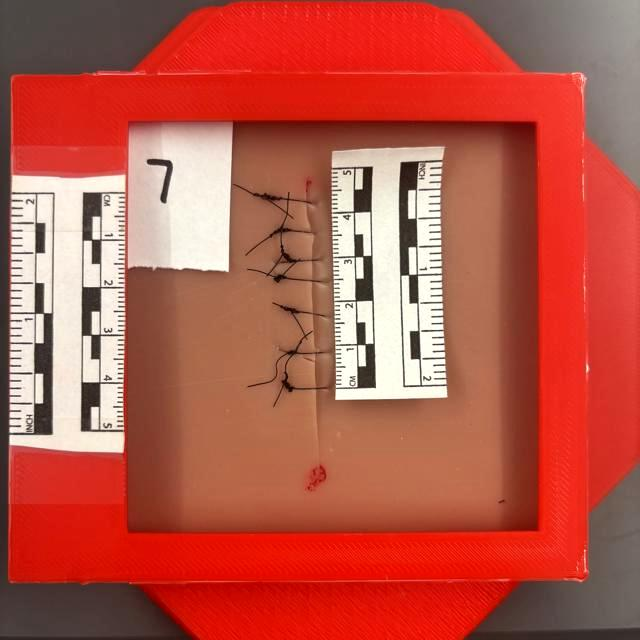incision_line: (302, 180, 326, 480)
scale_marker: (330, 212, 357, 256)
suture_d: (308, 352, 323, 388), (308, 314, 321, 354), (300, 200, 314, 235), (302, 230, 317, 262), (306, 281, 320, 314), (305, 260, 316, 280)
suture_l: (271, 193, 308, 205), (282, 271, 311, 286), (289, 384, 317, 394), (280, 227, 310, 236), (289, 255, 311, 265), (290, 349, 314, 358), (291, 307, 314, 315)
suture_r: (309, 194, 322, 207), (312, 274, 322, 286), (315, 349, 328, 357), (311, 256, 321, 264), (318, 384, 328, 392), (314, 311, 326, 317), (311, 228, 319, 235)
